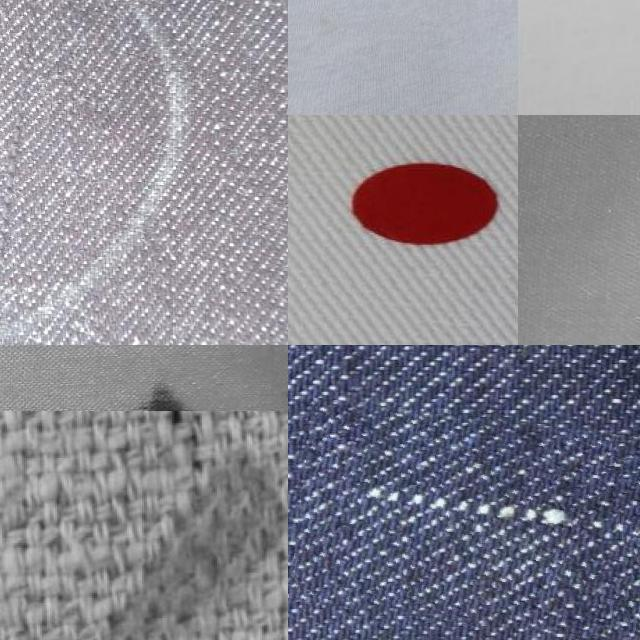Hole: (87, 348, 223, 410)
Thread_other: (294, 414, 640, 640)
